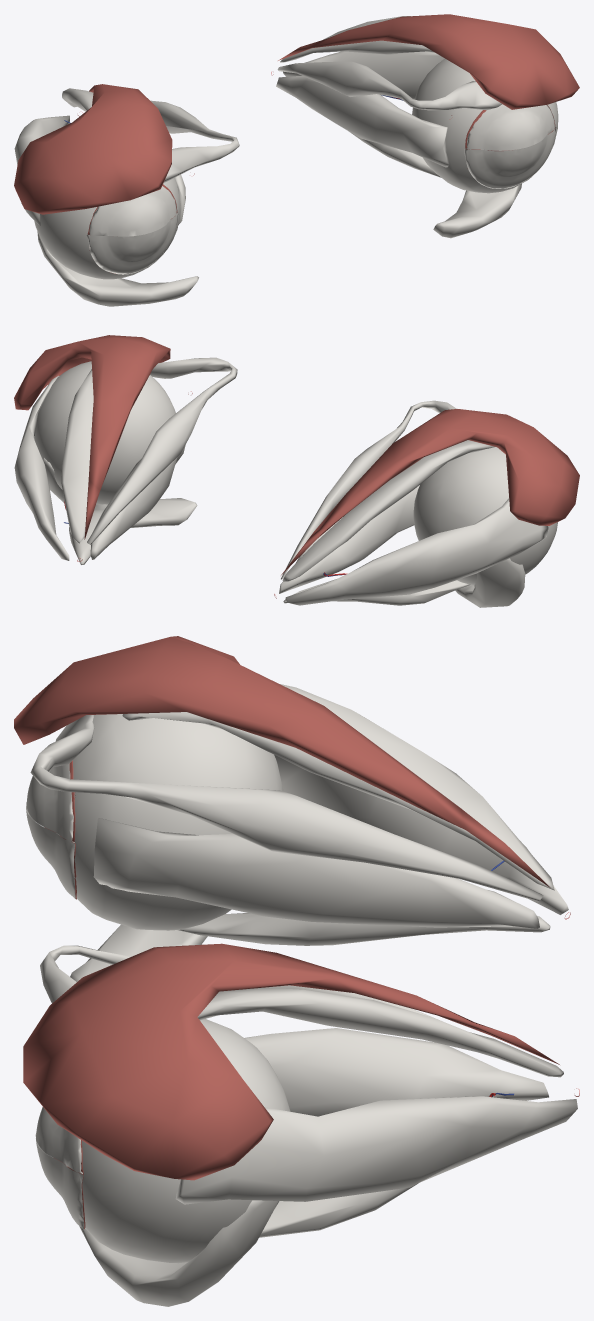
Rendered from adult_female.sensory.LOD2.glb.
3 views of the same model, one above another, from view 1: azimuth 30°, elevation 25°; view 2: azimuth 150°, elevation 25°; view 3: azimuth 270°, elevation 25° (orthographic). The views are drawn at different scales.
Parts seen in each view (by area): view 1: ADULT.FEMALE.SENSORY.LEVATOR_PALPEBRAE_SUPERIORIS.R, ADULT.FEMALE.SENSORY.LEVATOR_PALPEBRAE_SUPERIORIS.L, ADULT.FEMALE.SENSORY.MEDIAL_RECTUS_EXTRAOCULAR_MUSCLE.L, ADULT.FEMALE.SENSORY.SCLERA.L, ADULT.FEMALE.SENSORY.SUPERIOR_OBLIQUE_EXTRAOCULAR_MUSCLE.L, ADULT.FEMALE.SENSORY.SCLERA.R, ADULT.FEMALE.SENSORY.INFERIOR_OBLIQUE_EXTRAOCULAR_MUSCLE.R, ADULT.FEMALE.SENSORY.PALPEBRAL_CONJUNCTIVA_OF_LEFT_UPPER_EYE, ADULT.FEMALE.SENSORY.PALPEBRAL_CONJUNCTIVA_OF_RIGHT_UPPER_EY, ADULT.FEMALE.SENSORY.PALPEBRAL_CONJUNCTIVA_OF_LEFT_LOWER_EYE, ADULT.FEMALE.SENSORY.PALPEBRAL_CONJUNCTIVA_OF_RIGHT_LOWER_EY, ADULT.FEMALE.SENSORY.LATERAL_RECTUS_EXTRAOCULAR_MUSCLE.L (+6 smaller); view 2: ADULT.FEMALE.SENSORY.LEVATOR_PALPEBRAE_SUPERIORIS.R, ADULT.FEMALE.SENSORY.LATERAL_RECTUS_EXTRAOCULAR_MUSCLE.R, ADULT.FEMALE.SENSORY.LEVATOR_PALPEBRAE_SUPERIORIS.L, ADULT.FEMALE.SENSORY.SCLERA.R, ADULT.FEMALE.SENSORY.SCLERA.L, ADULT.FEMALE.SENSORY.SUPERIOR_OBLIQUE_EXTRAOCULAR_MUSCLE.L, ADULT.FEMALE.SENSORY.SUPERIOR_RECTUS_EXTRAOCULAR_MUSCLE.R, ADULT.FEMALE.SENSORY.SUPERIOR_RECTUS_EXTRAOCULAR_MUSCLE.L, ADULT.FEMALE.SENSORY.MEDIAL_RECTUS_EXTRAOCULAR_MUSCLE.R, ADULT.FEMALE.SENSORY.LATERAL_RECTUS_EXTRAOCULAR_MUSCLE.L, ADULT.FEMALE.SENSORY.SUPERIOR_OBLIQUE_EXTRAOCULAR_MUSCLE.R, ADULT.FEMALE.SENSORY.MEDIAL_RECTUS_EXTRAOCULAR_MUSCLE.L (+4 smaller); view 3: ADULT.FEMALE.SENSORY.LEVATOR_PALPEBRAE_SUPERIORIS.L, ADULT.FEMALE.SENSORY.MEDIAL_RECTUS_EXTRAOCULAR_MUSCLE.R, ADULT.FEMALE.SENSORY.LEVATOR_PALPEBRAE_SUPERIORIS.R, ADULT.FEMALE.SENSORY.LATERAL_RECTUS_EXTRAOCULAR_MUSCLE.L, ADULT.FEMALE.SENSORY.SCLERA.R, ADULT.FEMALE.SENSORY.SUPERIOR_OBLIQUE_EXTRAOCULAR_MUSCLE.R, ADULT.FEMALE.SENSORY.MEDIAL_RECTUS_EXTRAOCULAR_MUSCLE.L, ADULT.FEMALE.SENSORY.SCLERA.L, ADULT.FEMALE.SENSORY.SUPERIOR_RECTUS_EXTRAOCULAR_MUSCLE.R, ADULT.FEMALE.SENSORY.SUPERIOR_RECTUS_EXTRAOCULAR_MUSCLE.L, ADULT.FEMALE.SENSORY.LATERAL_RECTUS_EXTRAOCULAR_MUSCLE.R, ADULT.FEMALE.SENSORY.INFERIOR_OBLIQUE_EXTRAOCULAR_MUSCLE.L (+8 smaller).
Part boxes in pixels (x1,y1,x2,y2): ADULT.FEMALE.SENSORY.LEVATOR_PALPEBRAE_SUPERIORIS.R: [14, 84, 172, 214]; ADULT.FEMALE.SENSORY.LEVATOR_PALPEBRAE_SUPERIORIS.L: [278, 14, 579, 109]; ADULT.FEMALE.SENSORY.MEDIAL_RECTUS_EXTRAOCULAR_MUSCLE.L: [276, 76, 449, 167]; ADULT.FEMALE.SENSORY.SCLERA.L: [412, 58, 558, 193]; ADULT.FEMALE.SENSORY.SUPERIOR_OBLIQUE_EXTRAOCULAR_MUSCLE.L: [277, 61, 502, 110]; ADULT.FEMALE.SENSORY.SCLERA.R: [34, 178, 180, 279]; ADULT.FEMALE.SENSORY.INFERIOR_OBLIQUE_EXTRAOCULAR_MUSCLE.R: [37, 231, 198, 306]; ADULT.FEMALE.SENSORY.PALPEBRAL_CONJUNCTIVA_OF_LEFT_UPPER_EYE: [465, 104, 555, 150]; ADULT.FEMALE.SENSORY.PALPEBRAL_CONJUNCTIVA_OF_RIGHT_UPPER_EY: [87, 186, 176, 236]; ADULT.FEMALE.SENSORY.PALPEBRAL_CONJUNCTIVA_OF_LEFT_LOWER_EYE: [464, 127, 556, 188]; ADULT.FEMALE.SENSORY.PALPEBRAL_CONJUNCTIVA_OF_RIGHT_LOWER_EY: [86, 212, 178, 274]; ADULT.FEMALE.SENSORY.LATERAL_RECTUS_EXTRAOCULAR_MUSCLE.L: [283, 51, 444, 99]; ADULT.FEMALE.SENSORY.LEVATOR_PALPEBRAE_SUPERIORIS.R: [281, 409, 579, 575]; ADULT.FEMALE.SENSORY.LATERAL_RECTUS_EXTRAOCULAR_MUSCLE.R: [285, 498, 548, 605]; ADULT.FEMALE.SENSORY.LEVATOR_PALPEBRAE_SUPERIORIS.L: [14, 335, 170, 539]; ADULT.FEMALE.SENSORY.SCLERA.R: [413, 447, 557, 585]; ADULT.FEMALE.SENSORY.SCLERA.L: [34, 361, 175, 504]; ADULT.FEMALE.SENSORY.SUPERIOR_OBLIQUE_EXTRAOCULAR_MUSCLE.L: [87, 357, 237, 544]; ADULT.FEMALE.SENSORY.SUPERIOR_RECTUS_EXTRAOCULAR_MUSCLE.R: [282, 440, 494, 581]; ADULT.FEMALE.SENSORY.SUPERIOR_RECTUS_EXTRAOCULAR_MUSCLE.L: [61, 369, 93, 543]; ADULT.FEMALE.SENSORY.MEDIAL_RECTUS_EXTRAOCULAR_MUSCLE.R: [279, 485, 419, 593]; ADULT.FEMALE.SENSORY.LATERAL_RECTUS_EXTRAOCULAR_MUSCLE.L: [14, 375, 69, 560]; ADULT.FEMALE.SENSORY.SUPERIOR_OBLIQUE_EXTRAOCULAR_MUSCLE.R: [281, 400, 456, 579]; ADULT.FEMALE.SENSORY.MEDIAL_RECTUS_EXTRAOCULAR_MUSCLE.L: [90, 445, 185, 559]; ADULT.FEMALE.SENSORY.LEVATOR_PALPEBRAE_SUPERIORIS.L: [23, 943, 559, 1180]; ADULT.FEMALE.SENSORY.MEDIAL_RECTUS_EXTRAOCULAR_MUSCLE.R: [93, 818, 539, 928]; ADULT.FEMALE.SENSORY.LEVATOR_PALPEBRAE_SUPERIORIS.R: [14, 636, 550, 887]; ADULT.FEMALE.SENSORY.LATERAL_RECTUS_EXTRAOCULAR_MUSCLE.L: [175, 1096, 577, 1204]; ADULT.FEMALE.SENSORY.SCLERA.R: [58, 714, 283, 930]; ADULT.FEMALE.SENSORY.SUPERIOR_OBLIQUE_EXTRAOCULAR_MUSCLE.R: [30, 715, 543, 901]; ADULT.FEMALE.SENSORY.MEDIAL_RECTUS_EXTRAOCULAR_MUSCLE.L: [244, 1028, 548, 1116]; ADULT.FEMALE.SENSORY.SCLERA.L: [82, 1019, 290, 1263]; ADULT.FEMALE.SENSORY.SUPERIOR_RECTUS_EXTRAOCULAR_MUSCLE.R: [122, 684, 554, 890]; ADULT.FEMALE.SENSORY.SUPERIOR_RECTUS_EXTRAOCULAR_MUSCLE.L: [197, 987, 563, 1077]; ADULT.FEMALE.SENSORY.LATERAL_RECTUS_EXTRAOCULAR_MUSCLE.R: [274, 755, 568, 914]; ADULT.FEMALE.SENSORY.INFERIOR_OBLIQUE_EXTRAOCULAR_MUSCLE.L: [79, 1200, 278, 1306].
Size of the model in its own units: 0.105 by 0.0374 by 0.0557.
